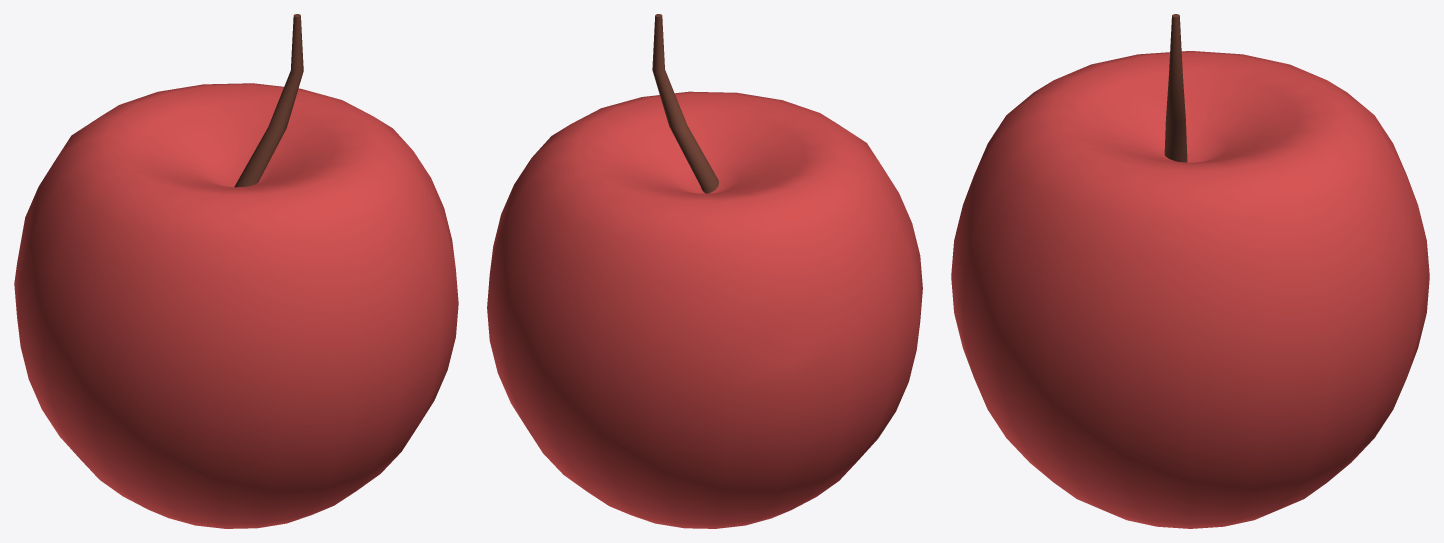
File: Pomme.fbx
The picture shows the model from 3 angles, left to right: view 1: azimuth 30°, elevation 25°; view 2: azimuth 150°, elevation 25°; view 3: azimuth 270°, elevation 25°; orthographic projection. The views are drawn at different scales.
Parts seen in each view (by area): view 1: pSphere1, pCylinder1; view 2: pSphere1, pCylinder1; view 3: pSphere1, pCylinder1.
Boxes of the visible parts, x1=… form: pSphere1: x1=14, y1=83, x2=458, y2=528; pCylinder1: x1=234, y1=14, x2=303, y2=187; pSphere1: x1=487, y1=91, x2=922, y2=528; pCylinder1: x1=652, y1=14, x2=718, y2=193; pSphere1: x1=951, y1=51, x2=1429, y2=528; pCylinder1: x1=1164, y1=14, x2=1187, y2=162.
Size of the model in its own units: 0.2607 by 0.3 by 0.2607.
